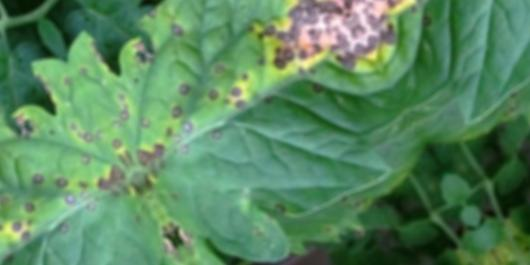Tomato Septoria leaf spot: (53, 0, 436, 265)
